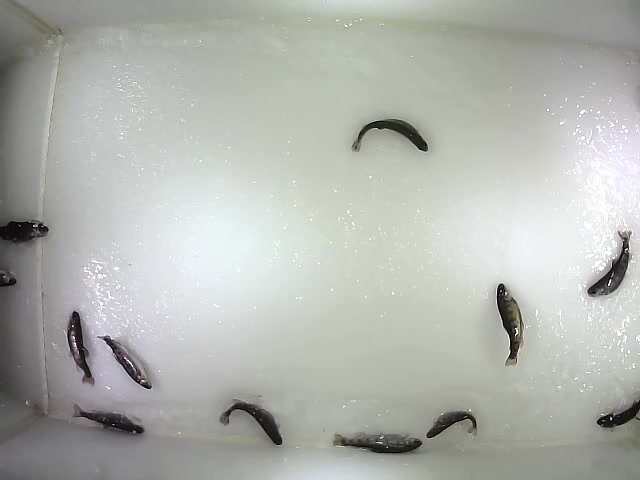fish: (218, 394, 284, 447), (96, 331, 153, 391), (586, 228, 634, 299), (349, 116, 430, 154), (71, 401, 145, 436), (495, 282, 525, 368), (64, 309, 96, 386), (331, 430, 424, 455), (425, 408, 479, 441)
